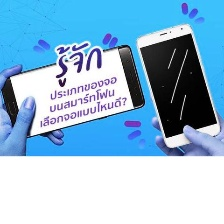phone: (0, 42, 148, 142), (134, 21, 223, 150)
